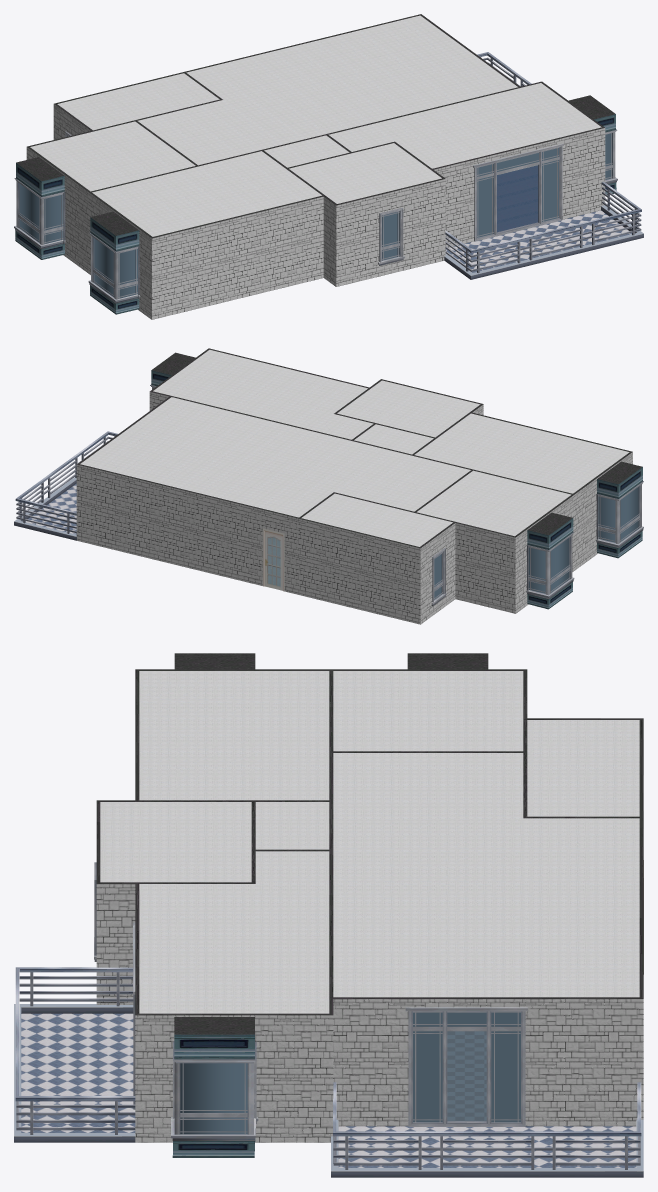
File: house_0110600.FBX
3 views of the same model, one above another, from view 1: azimuth 30°, elevation 25°; view 2: azimuth 150°, elevation 25°; view 3: azimuth 270°, elevation 25° (orthographic). The views are drawn at different scales.
Parts seen in each view (by area): view 1: house_0110600_roof_100_00, house_0110600_outwall_100_04, house_0110600_floor_107_00, house_0110600_outwall_100_06, house_0110600_outwall_100_08, house_0110600_outwall_107_00, house_0110600_floor_103_00, house_0110600_floor_104_00, house_0110600_floor_108_00, house_0110600_outwall_100_03, house_0110600_inneredge_100_00, house_0110600_floor_106_00 (+6 smaller); view 2: house_0110600_roof_100_00, house_0110600_outwall_100_00, house_0110600_outwall_100_02, house_0110600_floor_103_00, house_0110600_floor_104_00, house_0110600_floor_109_00, house_0110600_outwall_100_03, house_0110600_outwall_100_01, house_0110600_tcx_100_00, house_0110600_inneredge_100_00, house_0110600_outwall_101_00, house_0110600_floor_108_00 (+2 smaller); view 3: house_0110600_roof_100_00, house_0110600_outwall_100_11, house_0110600_floor_107_00, house_0110600_floor_109_00, house_0110600_outwall_100_09, house_0110600_floor_108_00, house_0110600_outwall_101_01, house_0110600_inneredge_100_00, house_0110600_outwall_100_07, house_0110600_floor_101_00, house_0110600_tcx_100_11, house_0110600_outedge_100_00 (+4 smaller).
Boxes of the visible parts, x1,y1,x2,y2 form: house_0110600_roof_100_00: (30, 15, 601, 236); house_0110600_outwall_100_04: (152, 196, 323, 314); house_0110600_floor_107_00: (444, 181, 643, 279); house_0110600_outwall_100_06: (336, 179, 445, 281); house_0110600_outwall_100_08: (434, 128, 605, 241); house_0110600_outwall_107_00: (473, 143, 563, 241); house_0110600_floor_103_00: (14, 157, 65, 259); house_0110600_floor_104_00: (88, 211, 140, 314); house_0110600_floor_108_00: (497, 95, 617, 232); house_0110600_outwall_100_03: (26, 147, 151, 313); house_0110600_inneredge_100_00: (91, 72, 519, 195); house_0110600_floor_106_00: (378, 208, 404, 265); house_0110600_roof_100_00: (80, 349, 629, 546); house_0110600_outwall_100_00: (76, 464, 420, 619); house_0110600_outwall_100_02: (455, 523, 515, 608); house_0110600_floor_103_00: (526, 512, 574, 609); house_0110600_floor_104_00: (596, 461, 643, 558); house_0110600_floor_109_00: (14, 431, 117, 540); house_0110600_outwall_100_03: (515, 452, 632, 608); house_0110600_outwall_100_01: (420, 523, 455, 618); house_0110600_tcx_100_00: (76, 535, 420, 624); house_0110600_inneredge_100_00: (172, 388, 572, 522); house_0110600_outwall_101_00: (262, 528, 284, 591); house_0110600_floor_108_00: (150, 352, 195, 389); house_0110600_roof_100_00: (100, 671, 639, 1013); house_0110600_outwall_100_11: (333, 999, 643, 1117); house_0110600_floor_107_00: (14, 967, 135, 1142); house_0110600_floor_109_00: (331, 1082, 643, 1177); house_0110600_outwall_100_09: (135, 1015, 333, 1133); house_0110600_floor_108_00: (171, 1017, 258, 1157); house_0110600_outwall_101_01: (405, 1007, 527, 1126); house_0110600_inneredge_100_00: (139, 671, 639, 997); house_0110600_outwall_100_07: (96, 884, 135, 1002); house_0110600_floor_101_00: (447, 1031, 486, 1121); house_0110600_tcx_100_11: (336, 1117, 643, 1126); house_0110600_outedge_100_00: (639, 718, 643, 998).
Size of the model in its own units: 1947 by 290 by 1299.
Materials: 66 (66 with a texture image).
